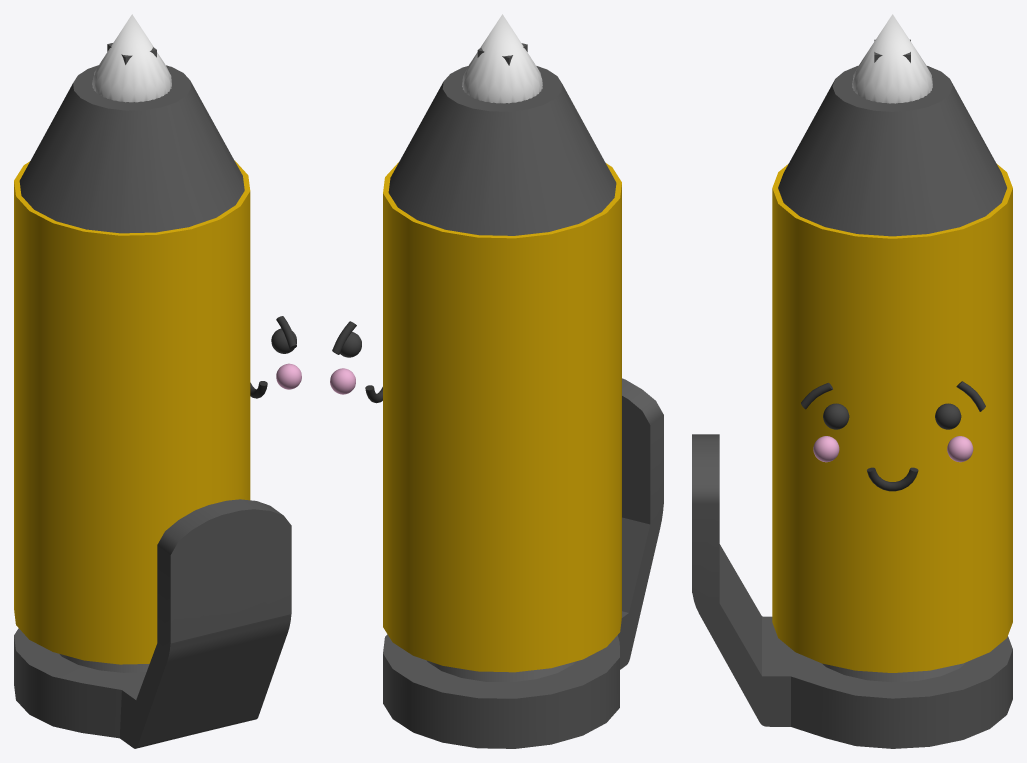
File: Pen_V3.fbx
3 views of the same model, side by side, from view 1: azimuth 30°, elevation 25°; view 2: azimuth 150°, elevation 25°; view 3: azimuth 270°, elevation 25° (orthographic).
Visible parts, largest first — view 1: Base1, Ressort1, Mine, JoueG; view 2: Base1, Ressort1, Mine, JoueD; view 3: Base1, Ressort1, Mine, Bouche, OeilG, JoueG, OeilD, JoueD.
Boxes of the visible parts, x1,y1,x2,y2 form: Base1: (14,65,250,664); Ressort1: (14,499,291,748); Mine: (92,14,171,102); JoueG: (276,363,301,389); Base1: (383,66,621,672); Ressort1: (383,378,663,748); Mine: (462,14,542,103); JoueD: (330,368,355,394); Base1: (772,65,1012,672); Ressort1: (692,434,1012,748); Mine: (852,14,932,103); Bouche: (867,467,918,491); OeilG: (935,403,961,429); JoueG: (813,436,839,462); OeilD: (823,403,849,429); JoueD: (947,436,973,462).
Size of the model in its own units: 2.32 by 6.28 by 2.67.
